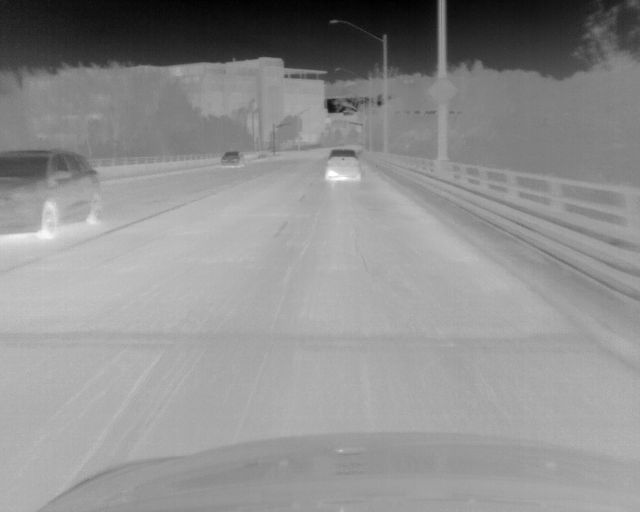car: (1, 149, 101, 240), (323, 149, 361, 183), (219, 151, 243, 168)
